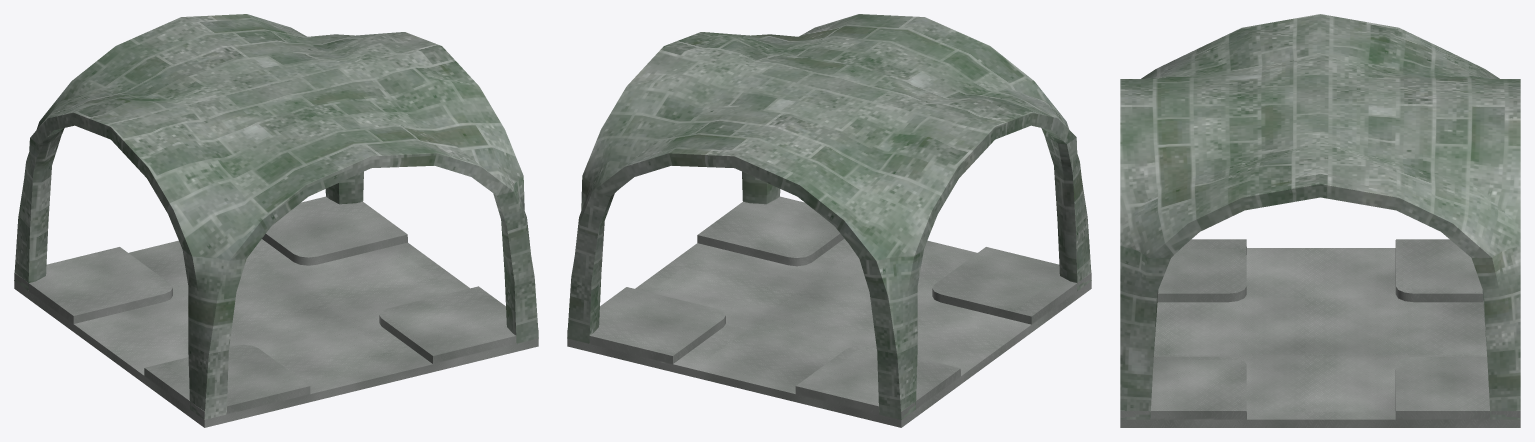
File: Tunnel_Cross.glb
The picture shows the model from 3 angles, left to right: view 1: azimuth 30°, elevation 25°; view 2: azimuth 150°, elevation 25°; view 3: azimuth 270°, elevation 25°; orthographic projection. The views are drawn at different scales.
Parts seen in each view (by area): view 1: Tunnel_Cross; view 2: Tunnel_Cross; view 3: Tunnel_Cross.
Boxes of the visible parts, left/top/right/bottom form: Tunnel_Cross: left=14, top=14, right=538, bottom=427; Tunnel_Cross: left=567, top=14, right=1091, bottom=427; Tunnel_Cross: left=1120, top=14, right=1520, bottom=427.
Size of the model in its own units: 12.27 by 8.09 by 12.08.
1 material, 1 textured.
